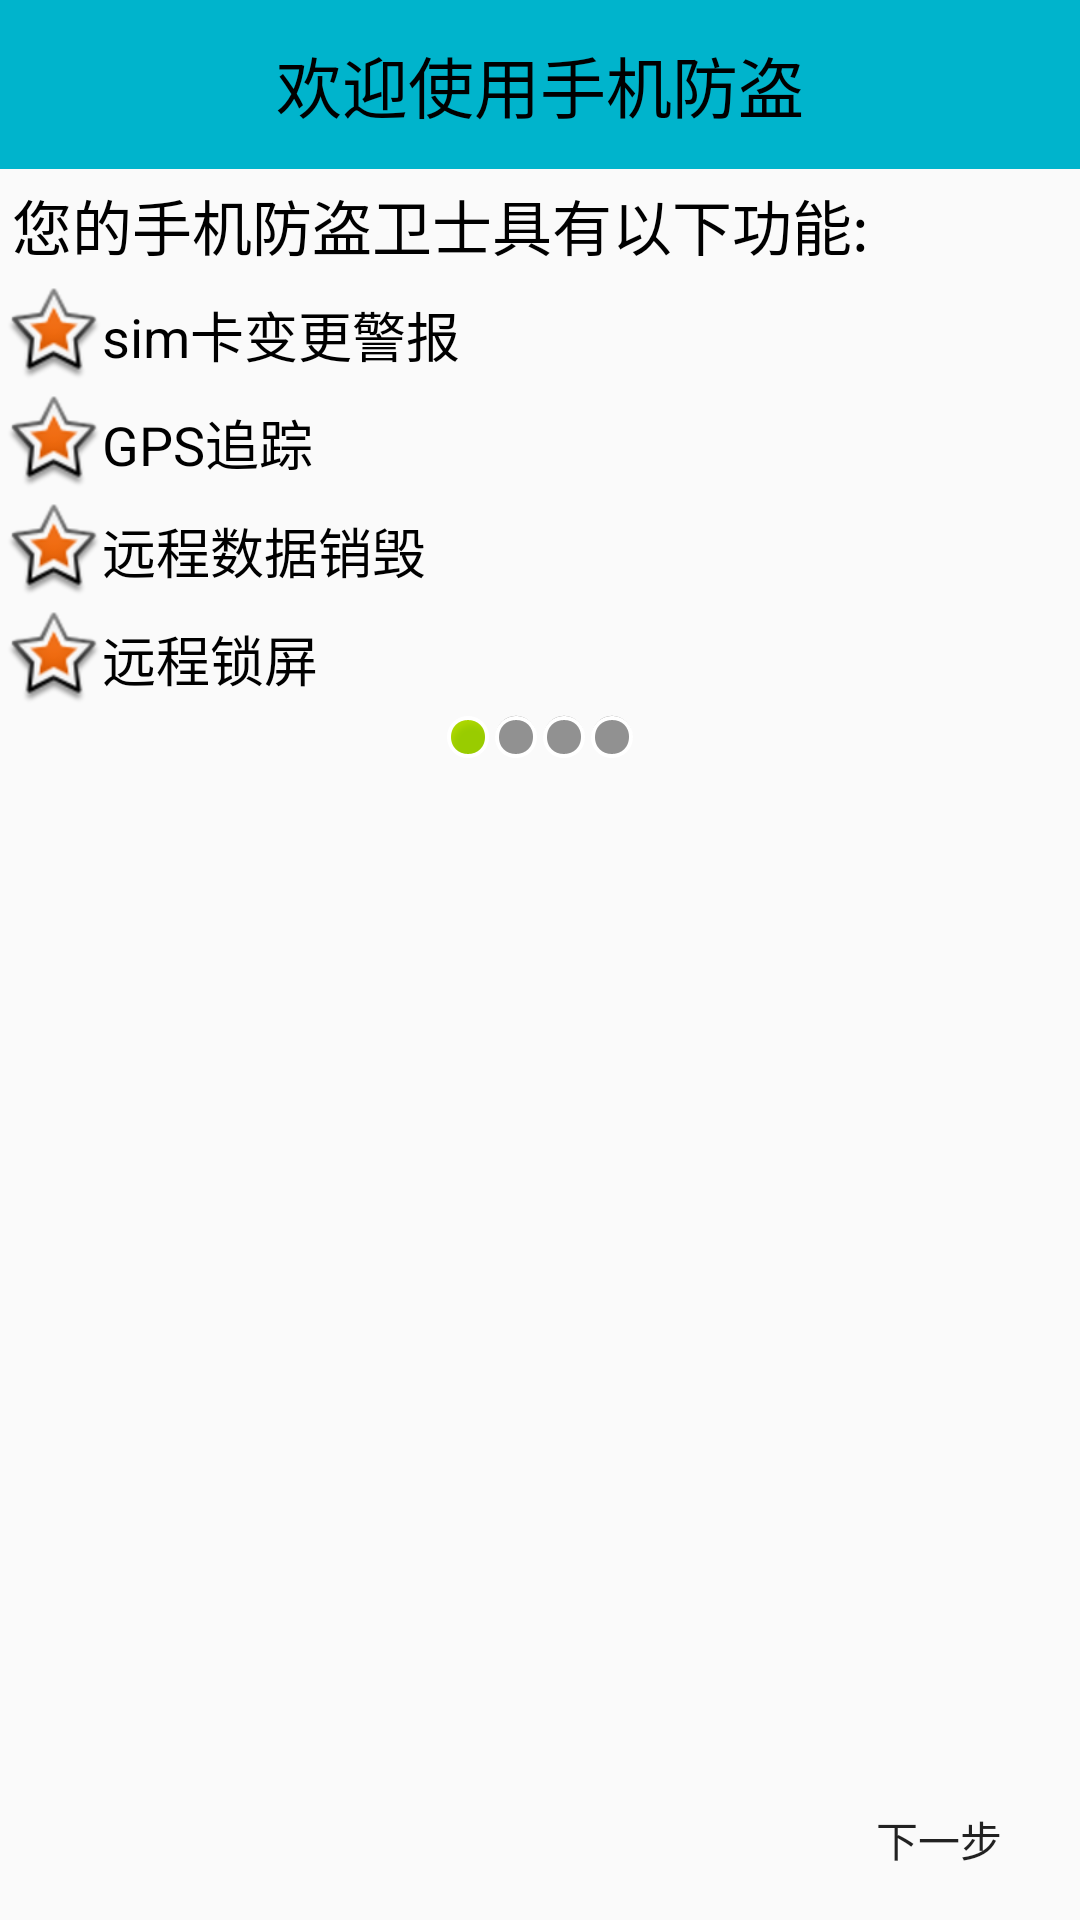

Icon click points for this 1080px x 1920px phone screenshot, format [x,y]:
presence invisible: [516,735], [564,735], [612,735]
presence online: [468,737]
